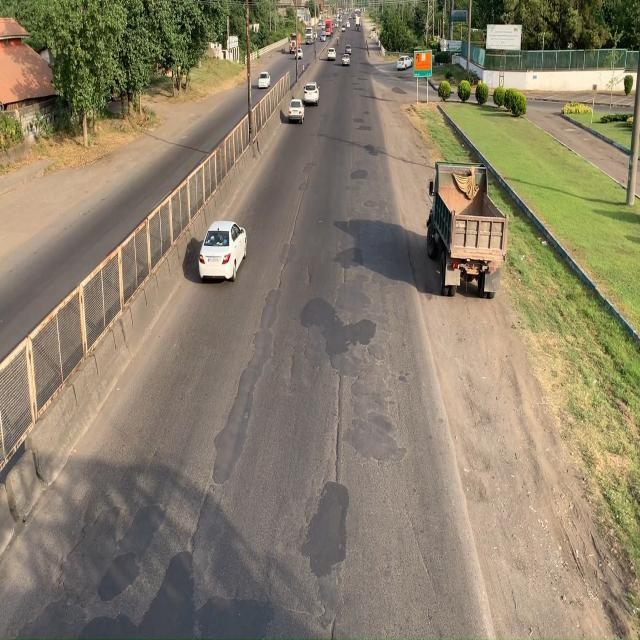Truck: (425, 160, 510, 303)
cars: (198, 220, 248, 283), (256, 68, 273, 94)
